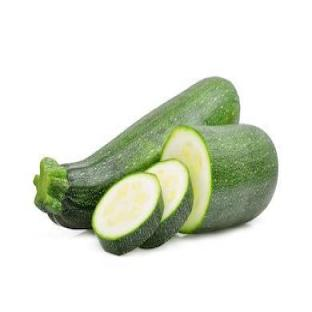Zucchini: (34, 78, 239, 227), (162, 125, 277, 232), (92, 173, 163, 254), (141, 160, 192, 248)
